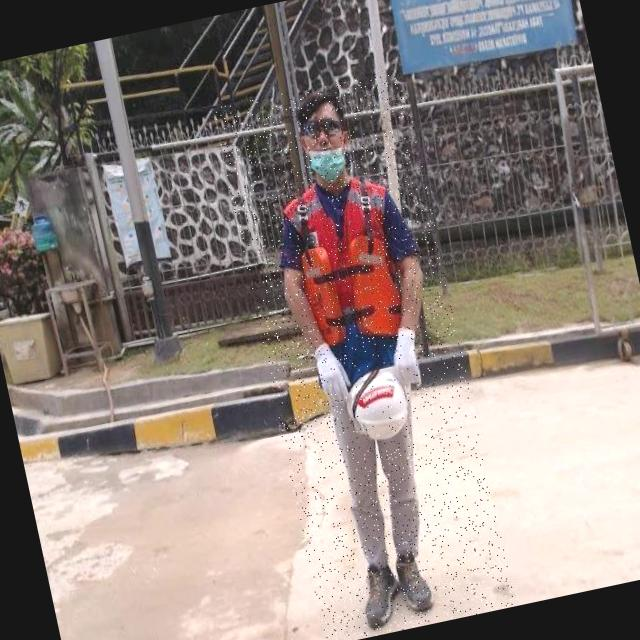gloves: (366, 304, 433, 400), (302, 329, 353, 408)
helmet: (332, 354, 425, 448)
no-boots: (351, 558, 407, 632), (390, 547, 434, 614)
no-helmet: (274, 73, 376, 194)
vest: (274, 166, 424, 388)
